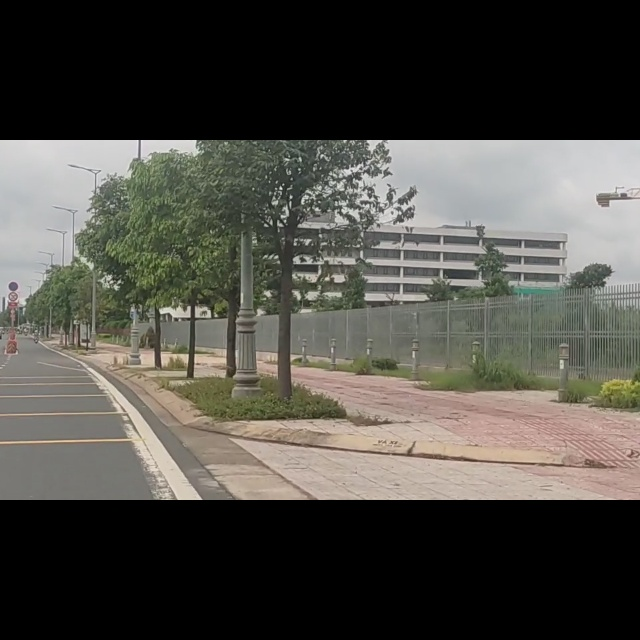bien_cam: (8, 249, 19, 267), (8, 271, 17, 287)
